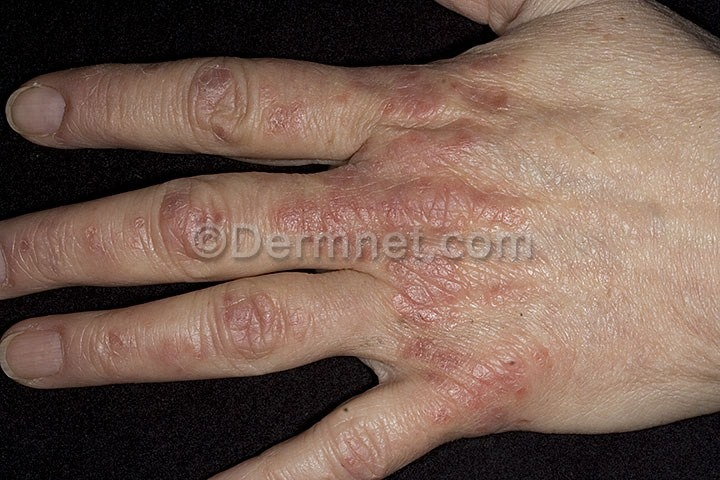Psoriasis: (278, 70, 526, 380), (426, 367, 547, 431), (201, 289, 310, 354), (153, 190, 236, 247), (5, 226, 127, 263), (80, 318, 161, 366), (176, 68, 261, 106)
